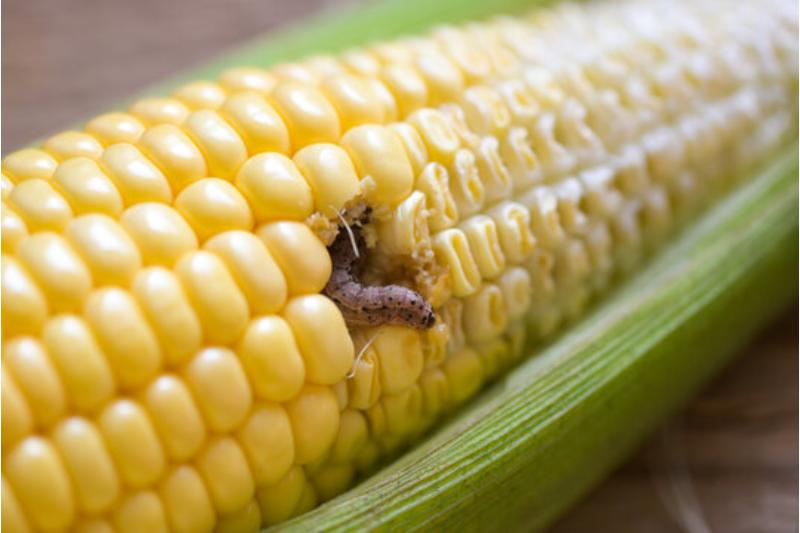fall-armyworm: (323, 207, 436, 333)
